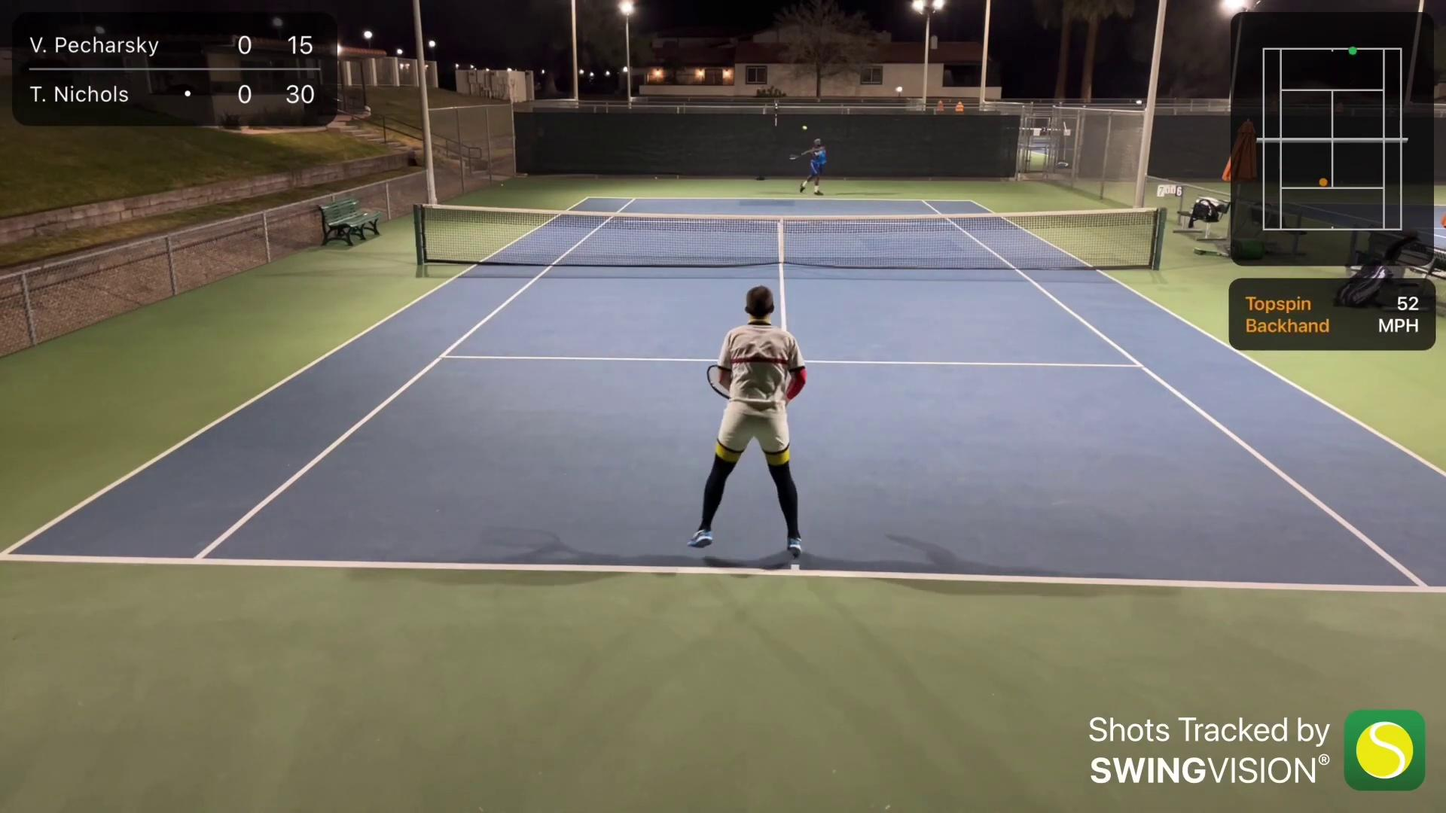ball: (799, 123, 806, 131)
